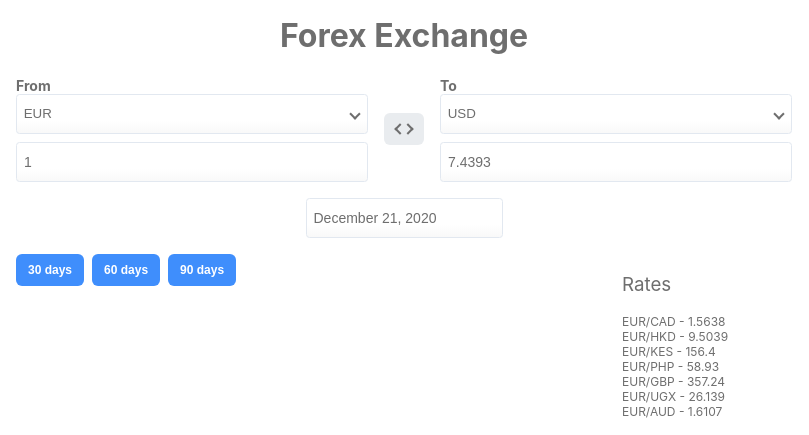
Test: Calculates the rate when you click the switch button
Check: the heading "Forex Exchange" is shown, box x1=280 y1=16 x2=528 y2=55
Check: the dropdown labelled "From" shows "EUR", box x1=17 y1=95 x2=367 y2=133
Step 1. Click the 1st button → (404, 129), box x1=384 y1=113 x2=424 y2=145
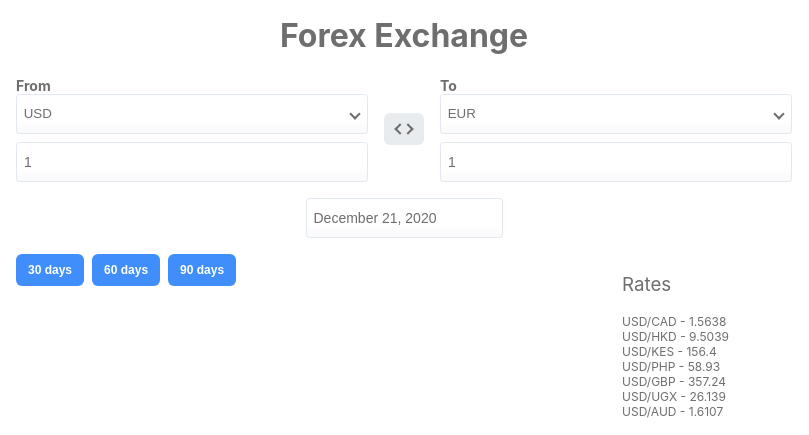
Check: the dropdown labelled "From" shows "USD", box x1=17 y1=95 x2=367 y2=133
Check: the dropdown labelled "To" shows "EUR", box x1=441 y1=95 x2=791 y2=133
